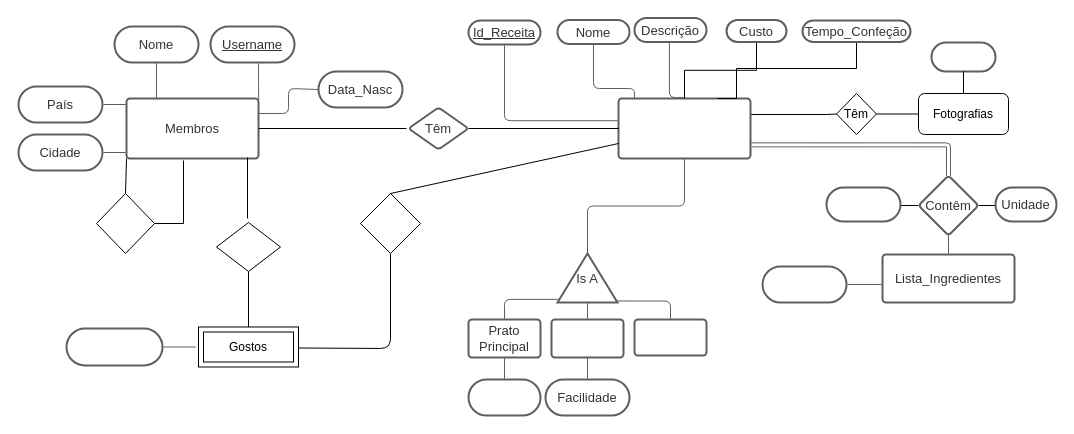
Image size: 1074x434. Some labels were removed from this diagram. Each missing label, with the centre of its shape:
Amigos1: [125,223]
Entrada: [670,337]
Nome_Ing: [804,284]
Podem colocar: [248,247]
Porções: [504,397]
Quantidade: [863,204]
Receita: [684,128]
Receitas contêm: [390,223]
Sobremesa: [587,338]
UrlFoto: [963,56]
Valor (classificação): [114,346]
